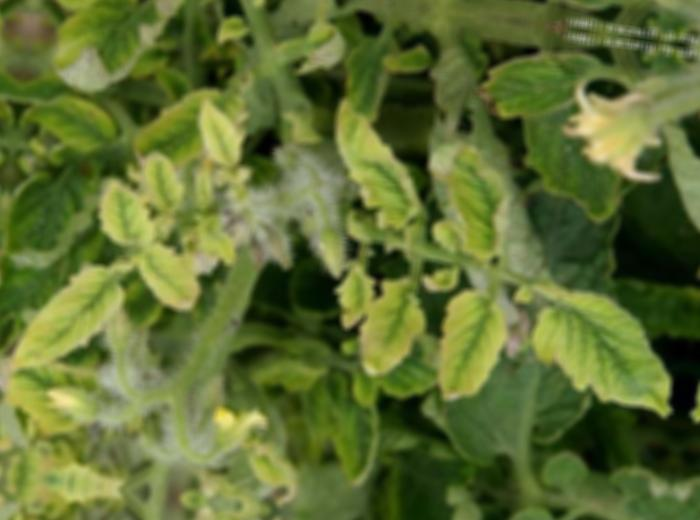Tomato leaf yellow virus: (513, 272, 689, 426), (5, 229, 131, 384), (315, 84, 440, 236), (424, 119, 527, 271), (431, 282, 505, 413), (81, 139, 161, 253), (125, 228, 213, 329), (359, 284, 425, 400), (183, 84, 258, 168)
